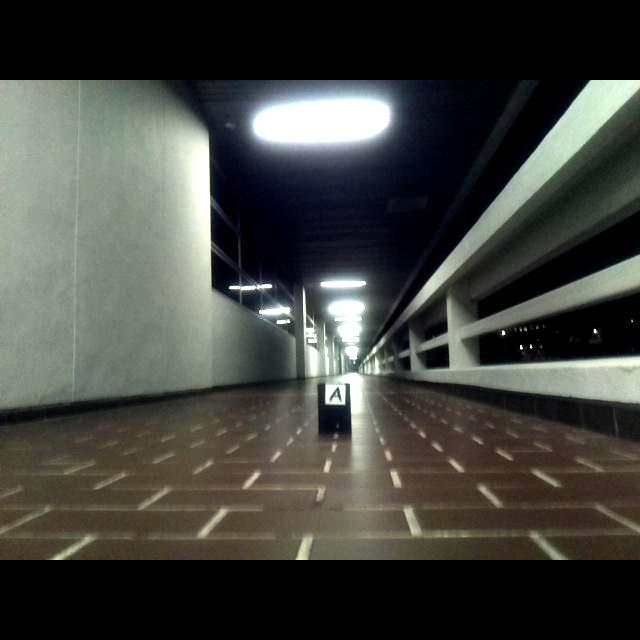A: (329, 387, 343, 403)
